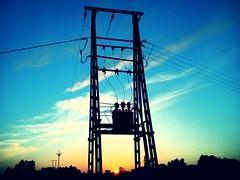power_tower: (73, 7, 160, 173)
